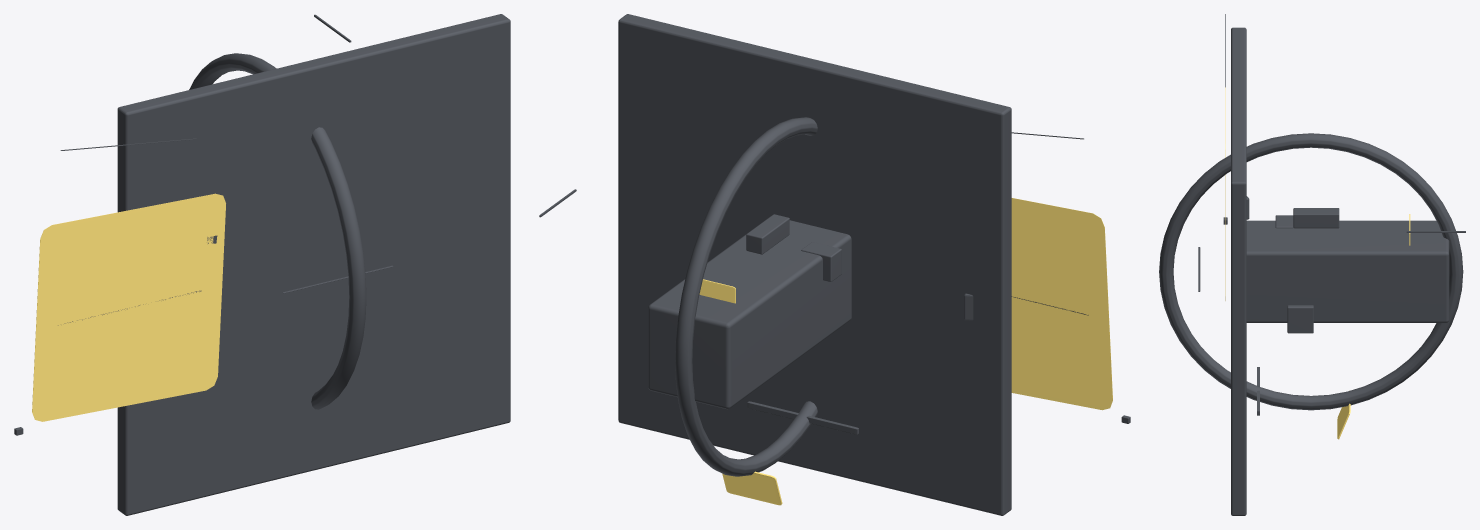
Rendered from place_station_trade_hub.glb.
3 renders of one model, left to right at view 1: azimuth 30°, elevation 25°; view 2: azimuth 150°, elevation 25°; view 3: azimuth 270°, elevation 25°, orthographic. The views are drawn at different scales.
Parts seen in each view (by area): view 1: Hub_Deck, DET_edge_chamfer_band, Hub_Ring; view 2: Hub_Deck, Hub_Tower, DET_edge_chamfer_band, Hub_Ring, DET_lie_billboard, Hub_Greeble_2, Hub_Greeble_0, DET_cargo_rib; view 3: Hub_Tower, Hub_Ring, Hub_Deck, Hub_Greeble_2, Hub_Greeble_1.
Boxes of the visible parts, <box> form: Hub_Deck: <box>117,14,510,515</box>; DET_edge_chamfer_band: <box>32,193,225,421</box>; Hub_Ring: <box>189,53,366,409</box>; Hub_Deck: <box>618,14,1011,515</box>; Hub_Tower: <box>648,216,851,409</box>; DET_edge_chamfer_band: <box>1011,198,1112,410</box>; Hub_Ring: <box>675,117,817,476</box>; DET_lie_billboard: <box>722,471,782,505</box>; Hub_Greeble_2: <box>746,214,789,254</box>; Hub_Greeble_0: <box>801,242,841,281</box>; DET_cargo_rib: <box>747,401,858,434</box>; Hub_Tower: <box>1246,220,1449,322</box>; Hub_Ring: <box>1159,133,1463,410</box>; Hub_Deck: <box>1231,27,1246,515</box>; Hub_Greeble_2: <box>1293,208,1339,228</box>; Hub_Greeble_1: <box>1287,305,1313,333</box>.
Size of the model in its own units: 36.25 by 28 by 23.3.
